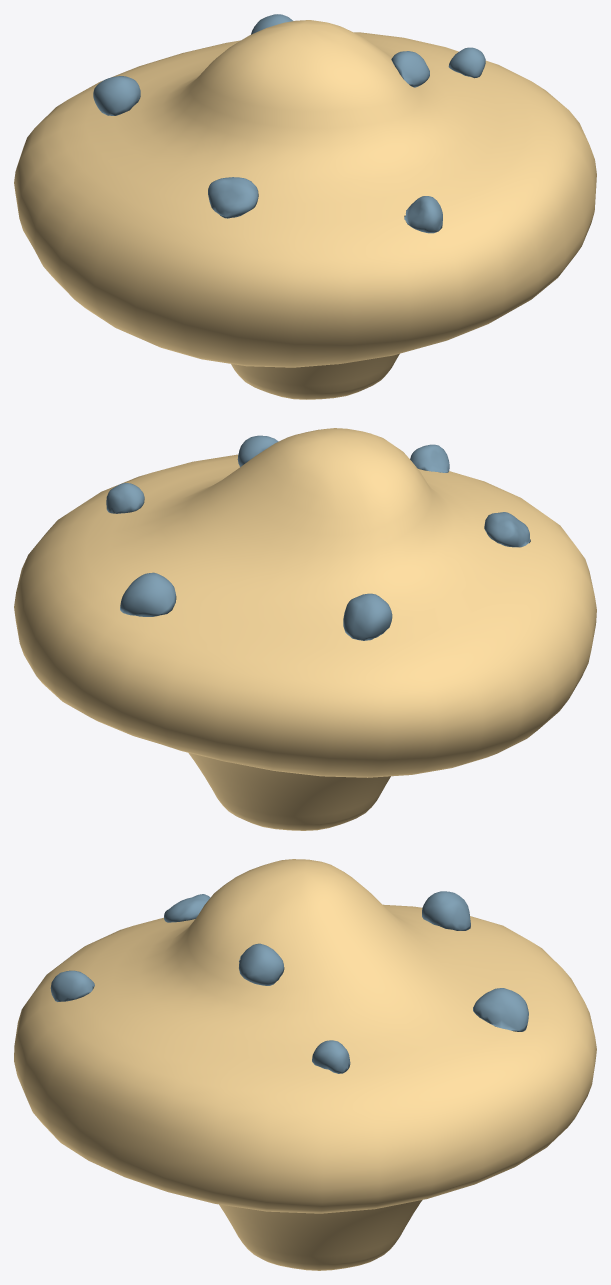
Rendered from Yellow mushroom.fbx.
The picture shows the model from 3 angles, top to bottom: view 1: azimuth 30°, elevation 25°; view 2: azimuth 150°, elevation 25°; view 3: azimuth 270°, elevation 25°; orthographic projection.
Visible parts, largest first — view 1: dried_mushroom.009, little_mushrooms.001; view 2: dried_mushroom.009, little_mushrooms.001; view 3: dried_mushroom.009, little_mushrooms.001.
Boxes of the visible parts, <box> form: dried_mushroom.009: <box>14,20,596,399</box>; little_mushrooms.001: <box>93,14,485,233</box>; dried_mushroom.009: <box>14,428,596,830</box>; little_mushrooms.001: <box>106,435,530,640</box>; dried_mushroom.009: <box>14,859,596,1270</box>; little_mushrooms.001: <box>50,891,528,1073</box>.
Size of the model in its own units: 86.02 by 58.61 by 84.82.
